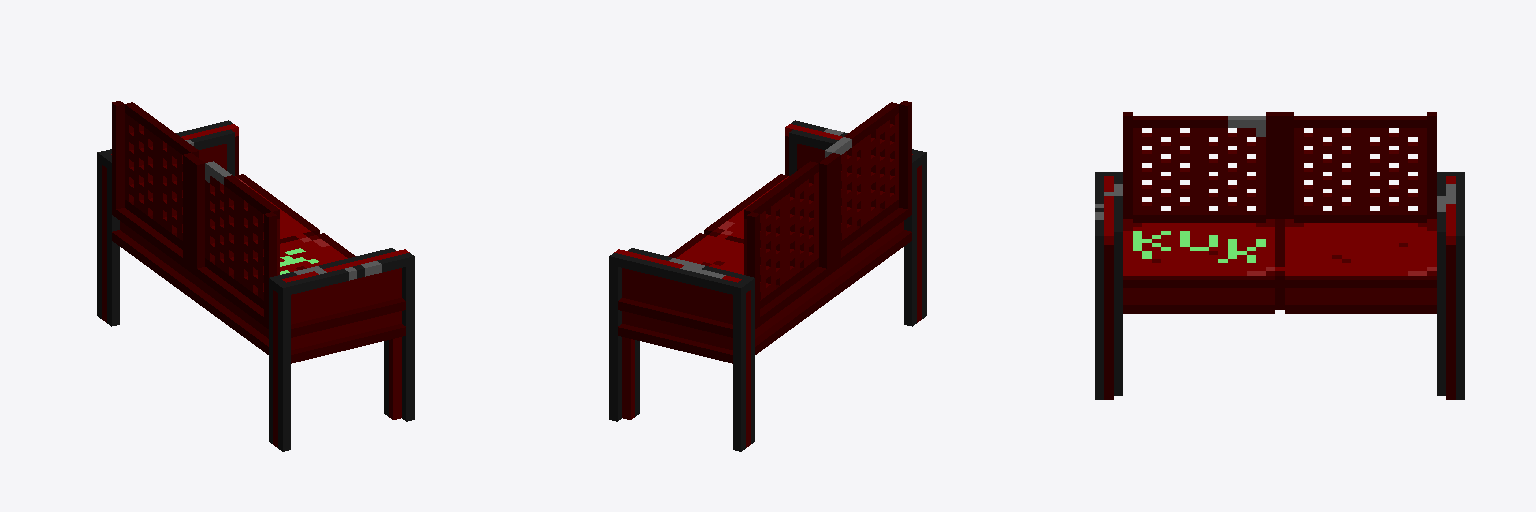
3 renders of one model, left to right at view 1: azimuth 30°, elevation 25°; view 2: azimuth 150°, elevation 25°; view 3: azimuth 270°, elevation 25°, orthographic.
Visible parts, largest first — view 1: SubwayBench2; view 2: SubwayBench2; view 3: SubwayBench2.
Part boxes in pixels (bbox=[...]): SubwayBench2: bbox=[97, 101, 414, 451]; SubwayBench2: bbox=[609, 101, 926, 451]; SubwayBench2: bbox=[1095, 112, 1464, 399].
Bounding box in the file's own units: 1.6 × 2.6 × 3.9.
Materials: 1 (1 with a texture image).